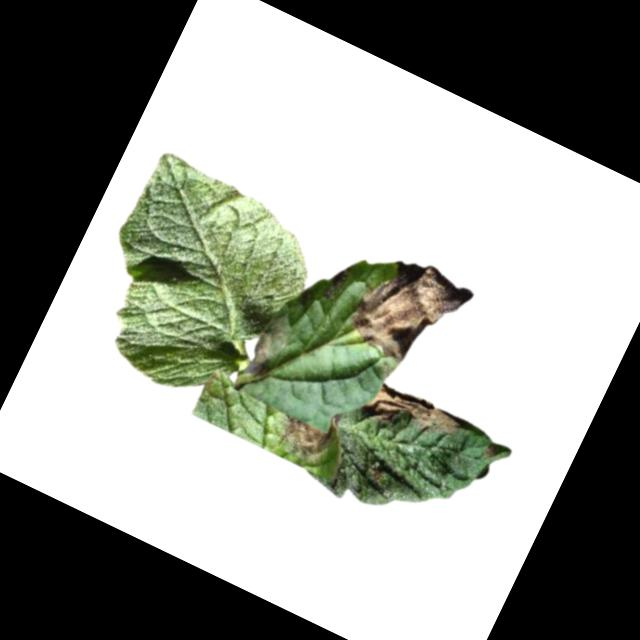Late_blight: (339, 242, 478, 382), (360, 376, 465, 453), (274, 394, 345, 466), (236, 317, 289, 385), (322, 260, 352, 302), (480, 440, 500, 462)
